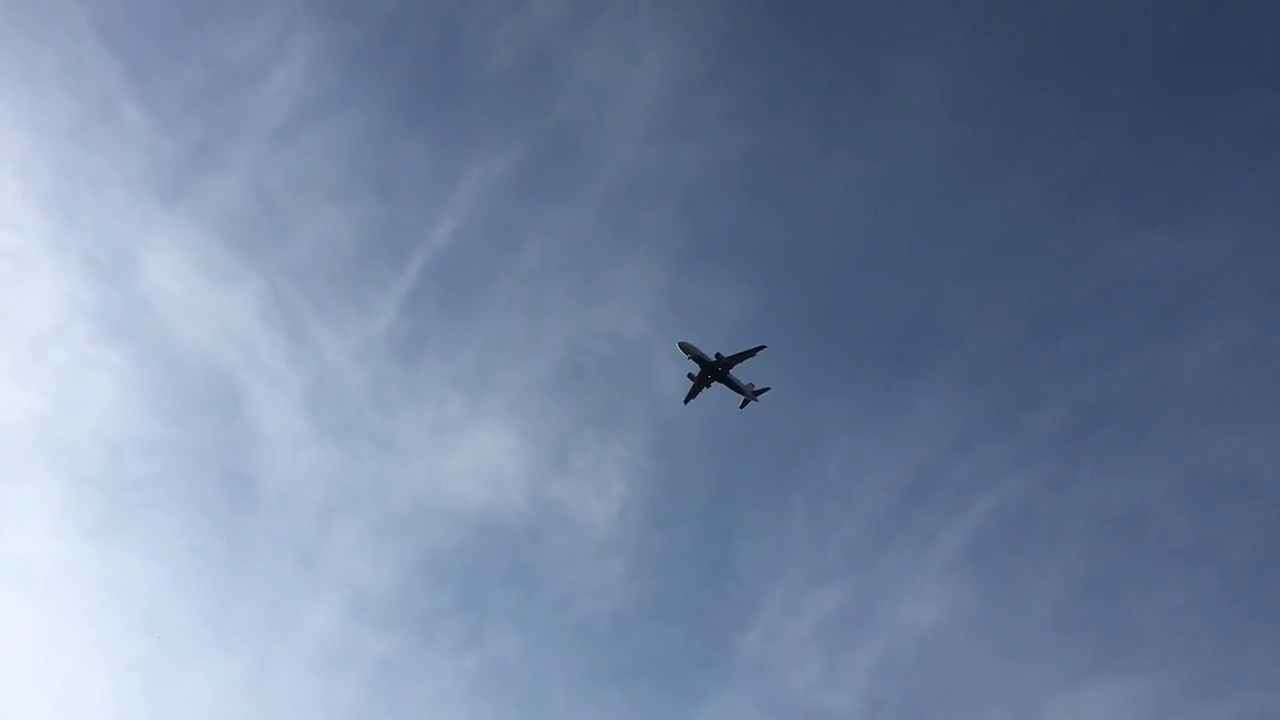plane: (676, 336, 773, 412)
